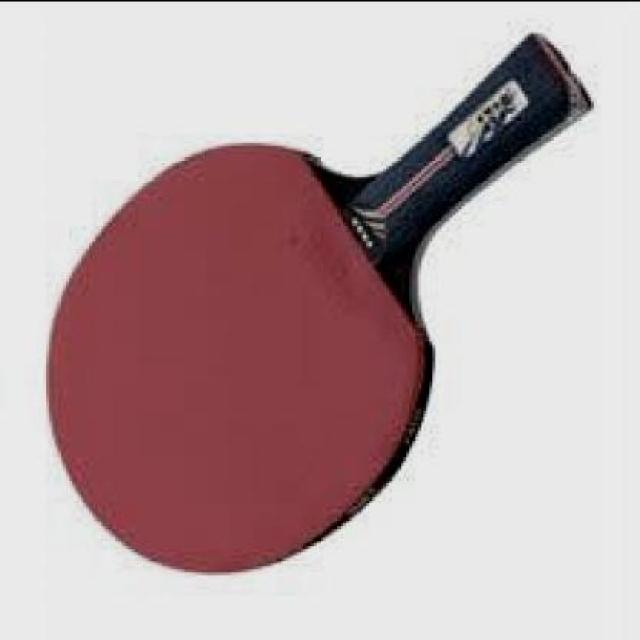table_tennis_racket: (43, 135, 431, 574)
